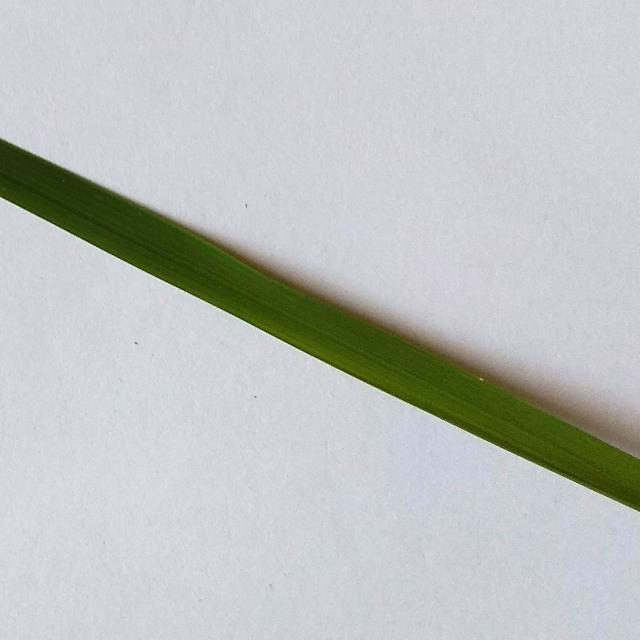Rice_Healthy: (0, 139, 640, 511)
